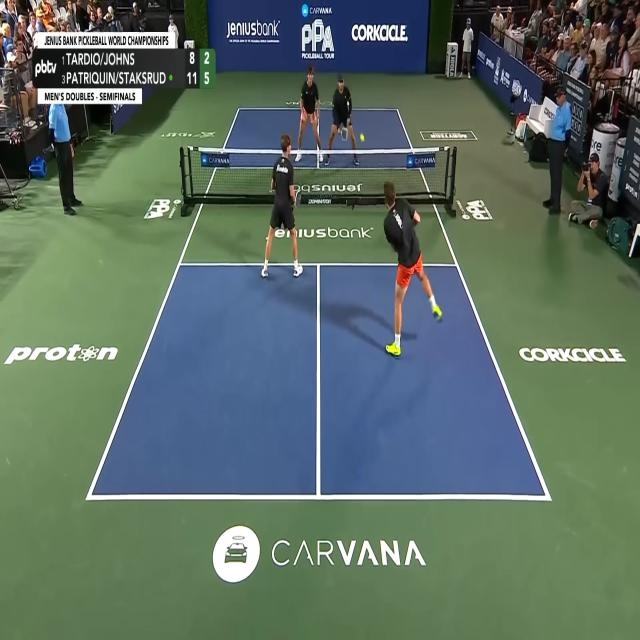ball: (360, 132, 366, 143)
